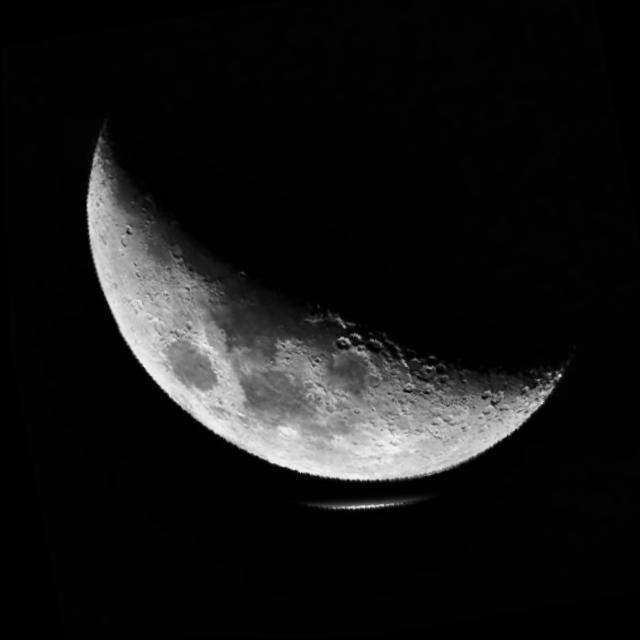moon: (32, 0, 640, 574)
